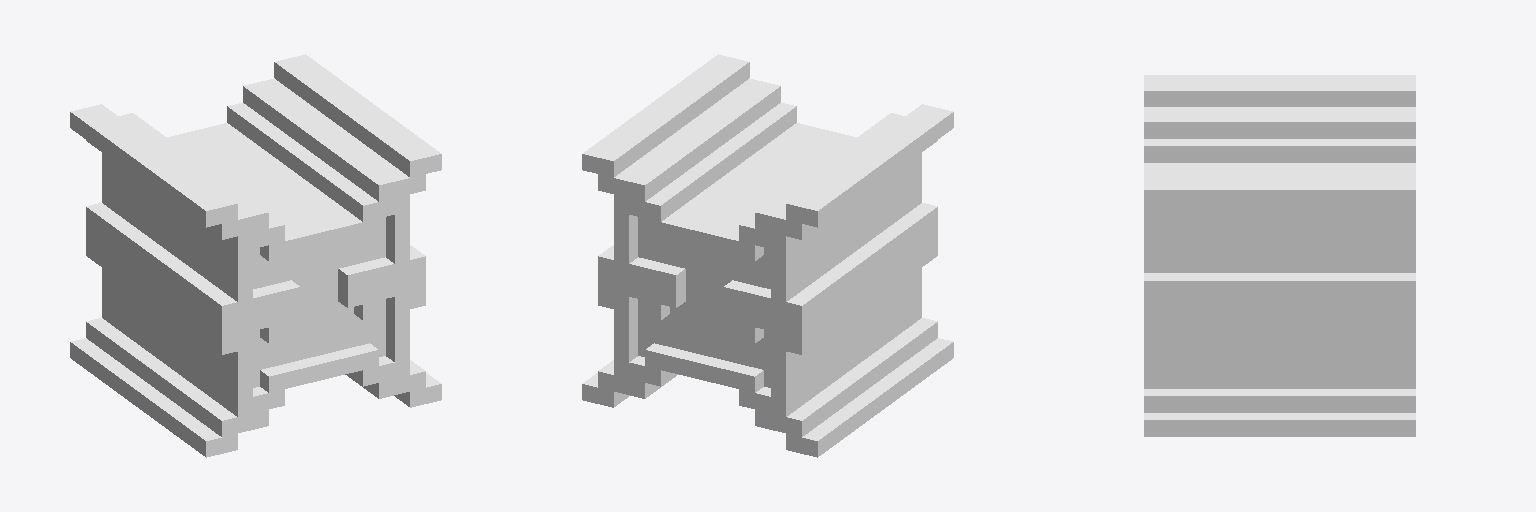
File: enemy02.obj
The picture shows the model from 3 angles: view 1: azimuth 30°, elevation 25°; view 2: azimuth 150°, elevation 25°; view 3: azimuth 270°, elevation 25°; orthographic projection.
Size of the model in its own units: 15 by 15 by 15.